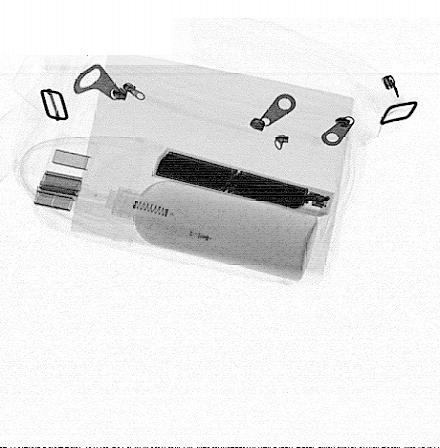Powerbank: (151, 146, 336, 217)
